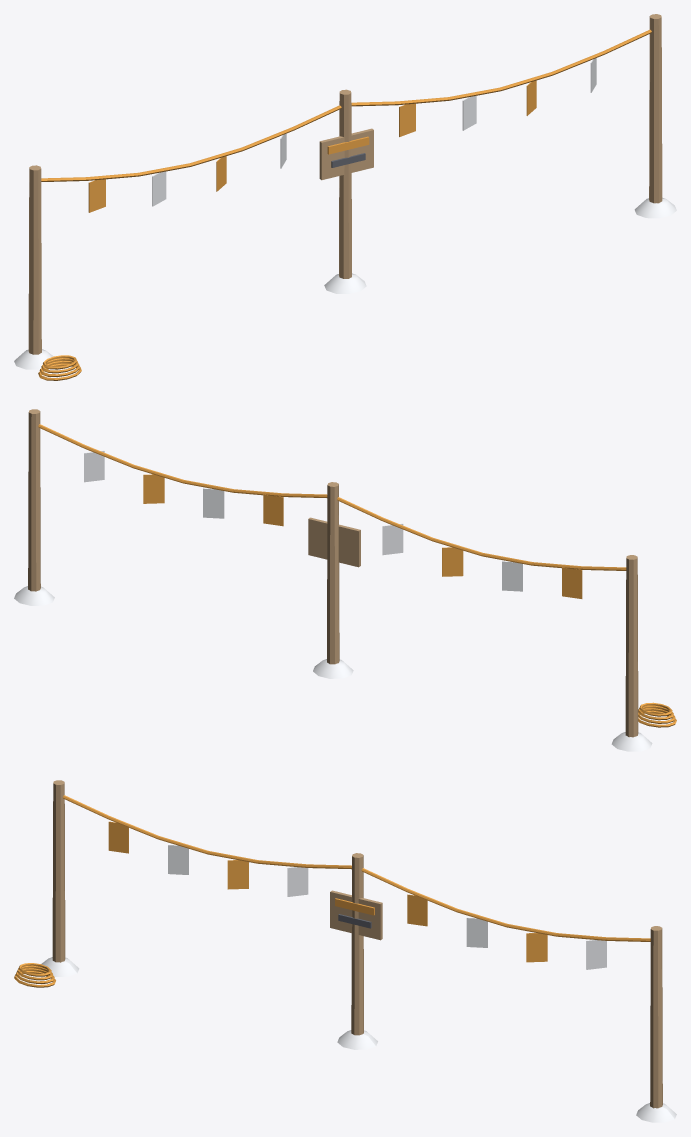
The model's file is backcountry-snowboarding-and-avalanche-safety-closure--9f7f11d0__18960.glb.
The picture shows the model from 3 angles, top to bottom: view 1: azimuth 30°, elevation 25°; view 2: azimuth 150°, elevation 25°; view 3: azimuth 330°, elevation 25°; orthographic projection. The views are drawn at different scales.
Visible parts, largest first — view 1: closure-rope-line; view 2: closure-rope-line; view 3: closure-rope-line.
Part boxes in pixels (x1,y1,x2,y2): closure-rope-line: (14, 14, 676, 380); closure-rope-line: (14, 409, 676, 751); closure-rope-line: (14, 780, 676, 1122).
Bounding box in the file's own units: 5.53 × 1.55 × 0.6172.
